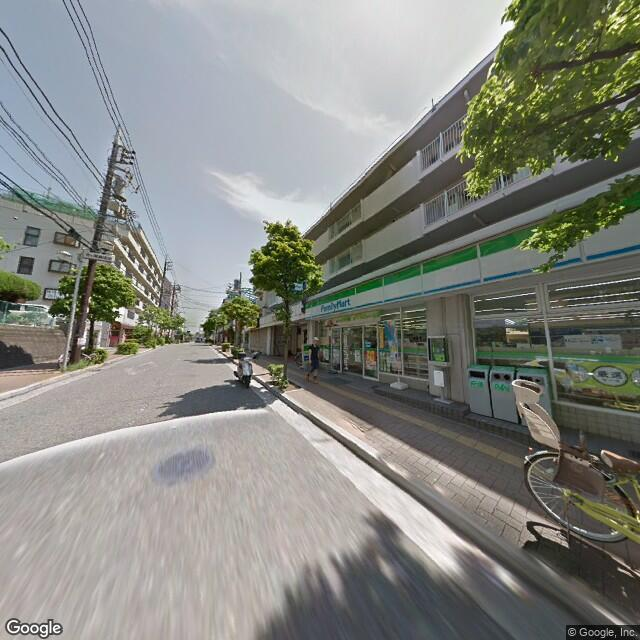family_mart: (304, 190, 638, 320), (318, 296, 356, 314)
